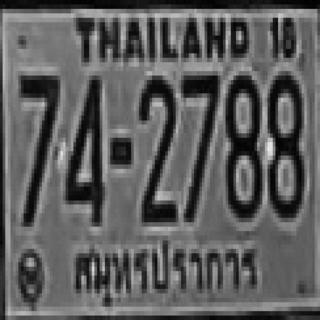N02: (138, 73, 174, 220)
N04: (63, 71, 102, 222)
N07: (18, 71, 58, 222), (181, 71, 218, 218), (181, 73, 218, 198)
N08: (223, 73, 260, 216), (268, 71, 302, 213)
P57: (69, 232, 265, 315)
